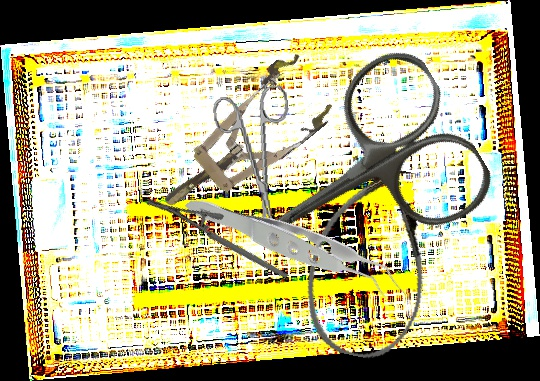Cannula: (294, 156, 447, 367)
Iris Scissors: (207, 37, 504, 316), (211, 84, 303, 235)
Needle Holder: (145, 163, 289, 315)
Speculum: (140, 47, 344, 234)
Tissue Forceps: (183, 130, 409, 371)
